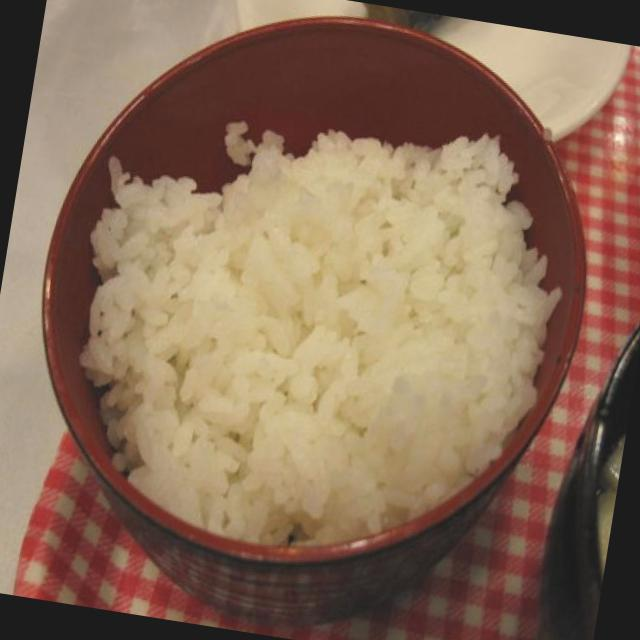Rice: (68, 112, 556, 550)
